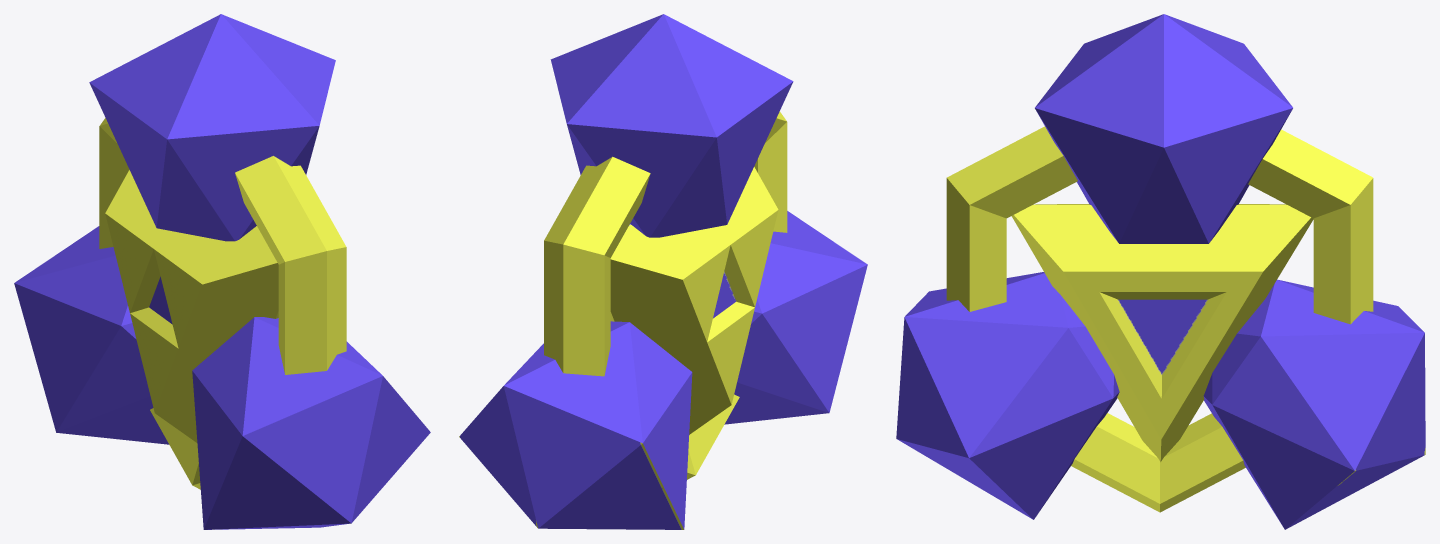
Rendered from Coin.fbx.
3 renders of one model, left to right at view 1: azimuth 30°, elevation 25°; view 2: azimuth 150°, elevation 25°; view 3: azimuth 270°, elevation 25°, orthographic. The views are drawn at different scales.
Visible parts, largest first — view 1: Coin; view 2: Coin; view 3: Coin.
Part boxes in pixels (left/top/right/bottom): Coin: left=14, top=14, right=430, bottom=529; Coin: left=459, top=14, right=867, bottom=529; Coin: left=896, top=14, right=1425, bottom=529.
Bounding box in the file's own units: 161 × 360 × 346.
